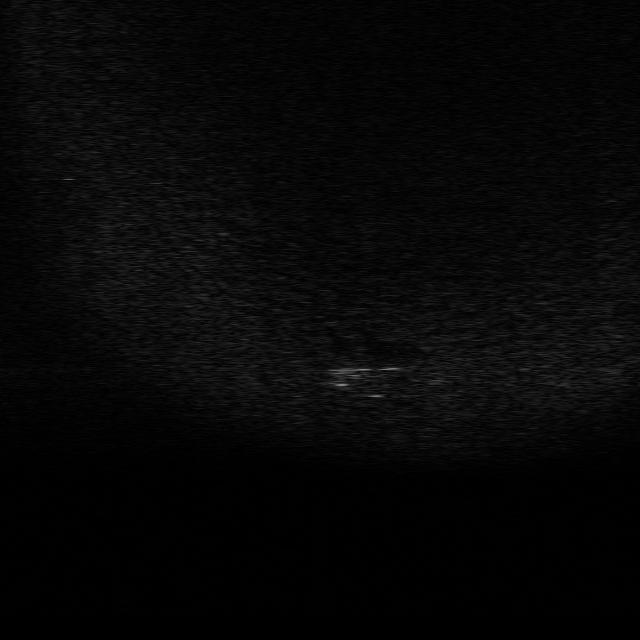plane: (315, 354, 401, 390)
